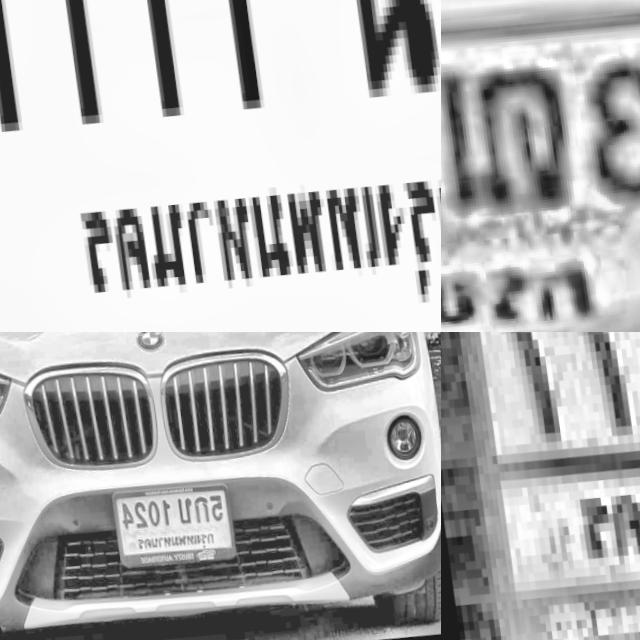license-plate: (0, 0, 441, 332), (441, 0, 640, 332), (441, 332, 640, 640), (105, 472, 239, 575)
